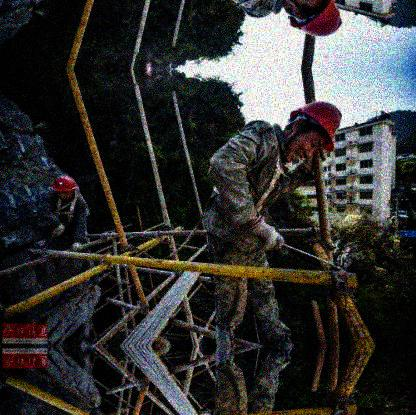helmet: (282, 98, 342, 166), (281, 1, 348, 38), (48, 174, 78, 202)
